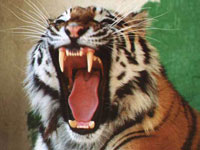Tigre: (24, 9, 178, 140)
